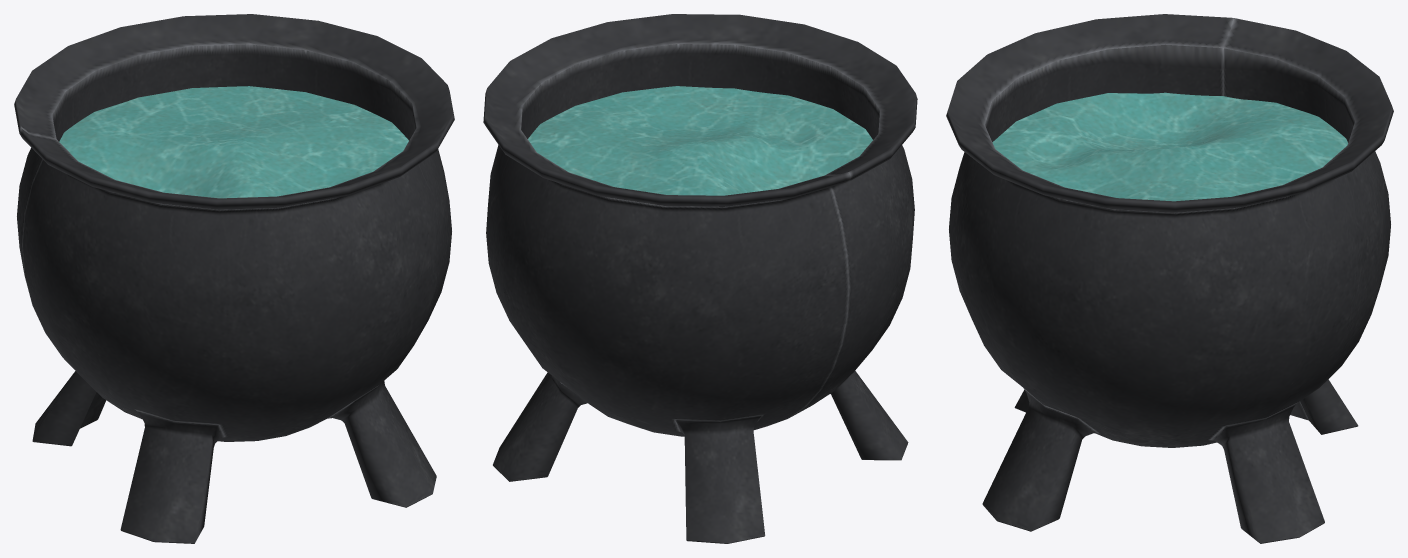
The model's file is cauldron.glb.
3 renders of one model, left to right at view 1: azimuth 30°, elevation 25°; view 2: azimuth 150°, elevation 25°; view 3: azimuth 270°, elevation 25°, orthographic. The views are drawn at different scales.
Parts seen in each view (by area): view 1: Heal_Cauldron; view 2: Heal_Cauldron; view 3: Heal_Cauldron.
Part boxes in pixels (x1=…): Heal_Cauldron: x1=14, y1=14, x2=454, y2=543; Heal_Cauldron: x1=483, y1=14, x2=917, y2=543; Heal_Cauldron: x1=946, y1=14, x2=1393, y2=543.
Bounding box in the file's own units: 3.07 × 2.71 × 3.07.
1 material, 1 textured.
